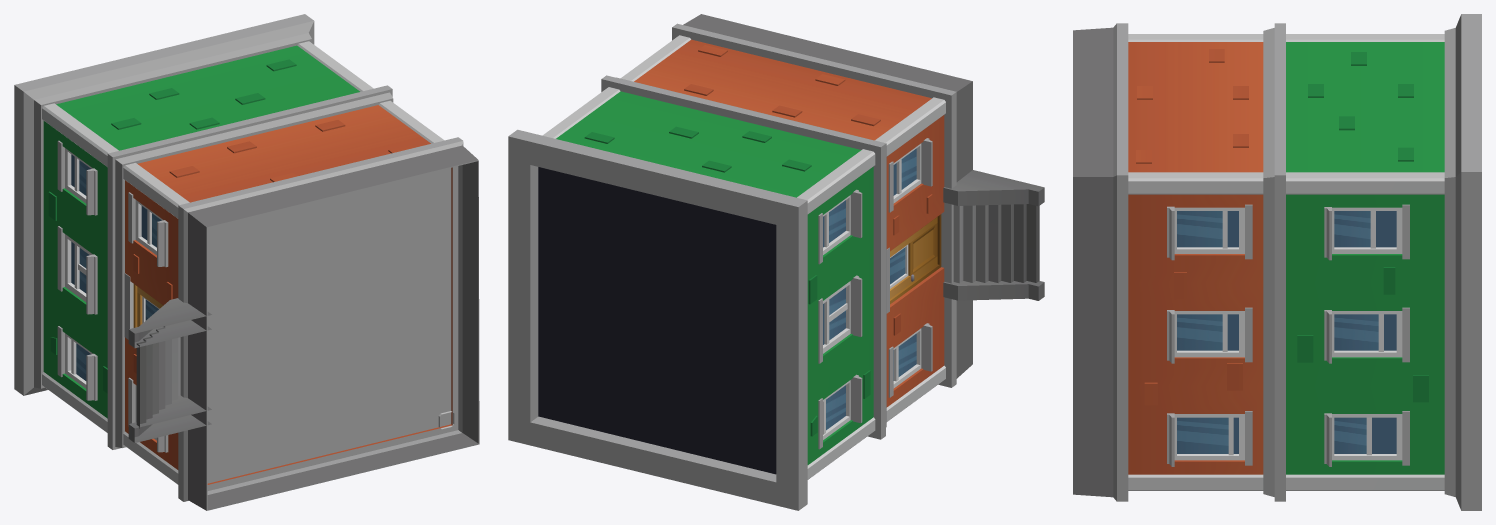
Rendered from Building_2_1_F.fbx.
3 views of the same model, side by side, from view 1: azimuth 30°, elevation 25°; view 2: azimuth 150°, elevation 25°; view 3: azimuth 270°, elevation 25° (orthographic). The views are drawn at different scales.
Parts seen in each view (by area): view 1: Building_2_1_F; view 2: Building_2_1_F; view 3: Building_2_1_F.
Boxes of the visible parts, x1=… form: Building_2_1_F: x1=14, y1=14, x2=479, y2=510; Building_2_1_F: x1=508, y1=14, x2=1044, y2=510; Building_2_1_F: x1=1073, y1=14, x2=1481, y2=510.
Bounding box in the file's own units: 755 × 620 × 678.
